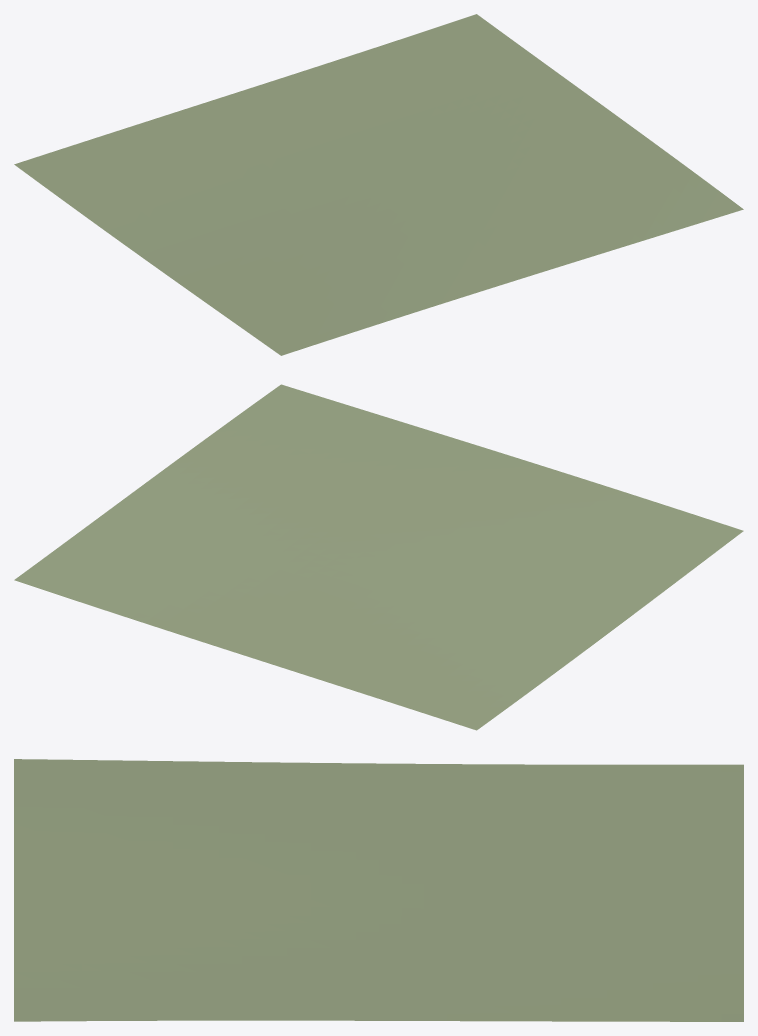
The model's file is expanse-11-8.glb.
3 views of the same model, one above another, from view 1: azimuth 30°, elevation 25°; view 2: azimuth 150°, elevation 25°; view 3: azimuth 270°, elevation 25° (orthographic). The views are drawn at different scales.
Parts seen in each view (by area): view 1: expanse-11-8; view 2: expanse-11-8; view 3: expanse-11-8.
Part boxes in pixels (x1,y1,x2,y2): expanse-11-8: (14,14,743,355); expanse-11-8: (14,384,743,730); expanse-11-8: (14,759,743,1021).
Bounding box in the file's own units: 256 × 20.35 × 256.
